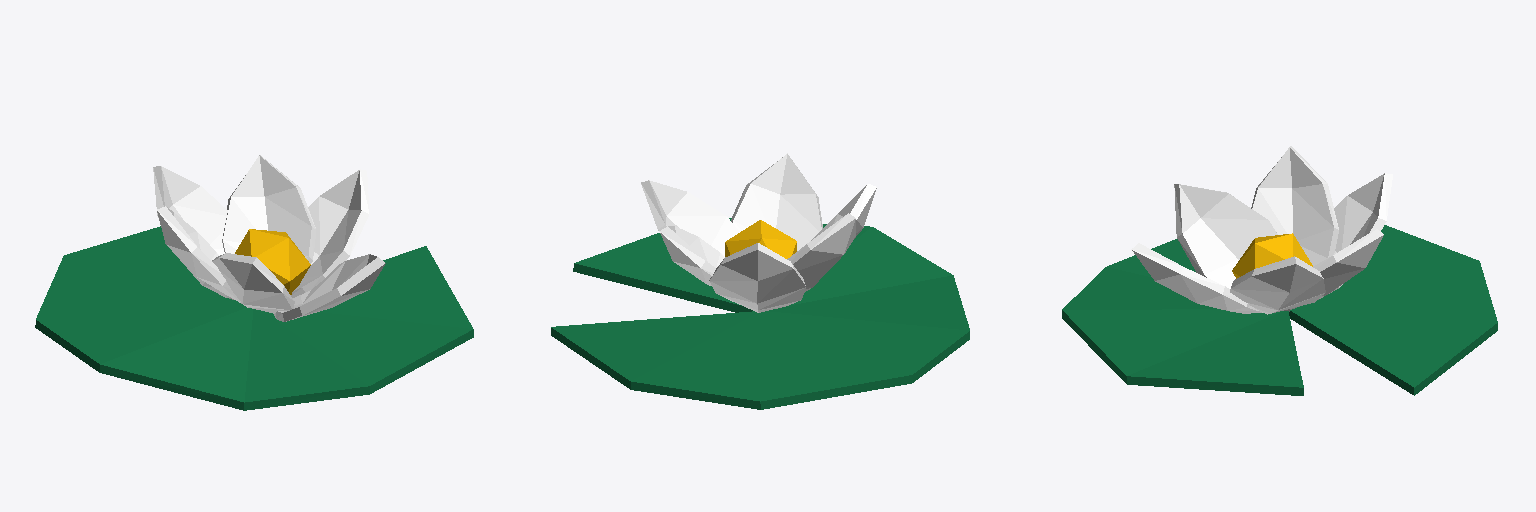
File: lilypad.obj
3 views of the same model, side by side, from view 1: azimuth 30°, elevation 25°; view 2: azimuth 150°, elevation 25°; view 3: azimuth 270°, elevation 25° (orthographic).
Visible parts, largest first — view 1: pDisc1 lilypad, lilypad pPlane28 group, lilypad pPlatonic1; view 2: pDisc1 lilypad, lilypad pPlane28 group, lilypad pPlatonic1; view 3: pDisc1 lilypad, lilypad pPlane28 group, lilypad pPlatonic1.
Part boxes in pixels (bbox=[...]): pDisc1 lilypad: bbox=[35, 226, 473, 410]; lilypad pPlane28 group: bbox=[153, 155, 385, 321]; lilypad pPlatonic1: bbox=[235, 229, 310, 294]; pDisc1 lilypad: bbox=[551, 218, 969, 409]; lilypad pPlane28 group: bbox=[641, 153, 876, 312]; lilypad pPlatonic1: bbox=[725, 220, 796, 258]; pDisc1 lilypad: bbox=[1062, 225, 1497, 395]; lilypad pPlane28 group: bbox=[1131, 146, 1392, 314]; lilypad pPlatonic1: bbox=[1232, 233, 1312, 278].
Size of the model in its own units: 1.81 by 0.6389 by 1.88.